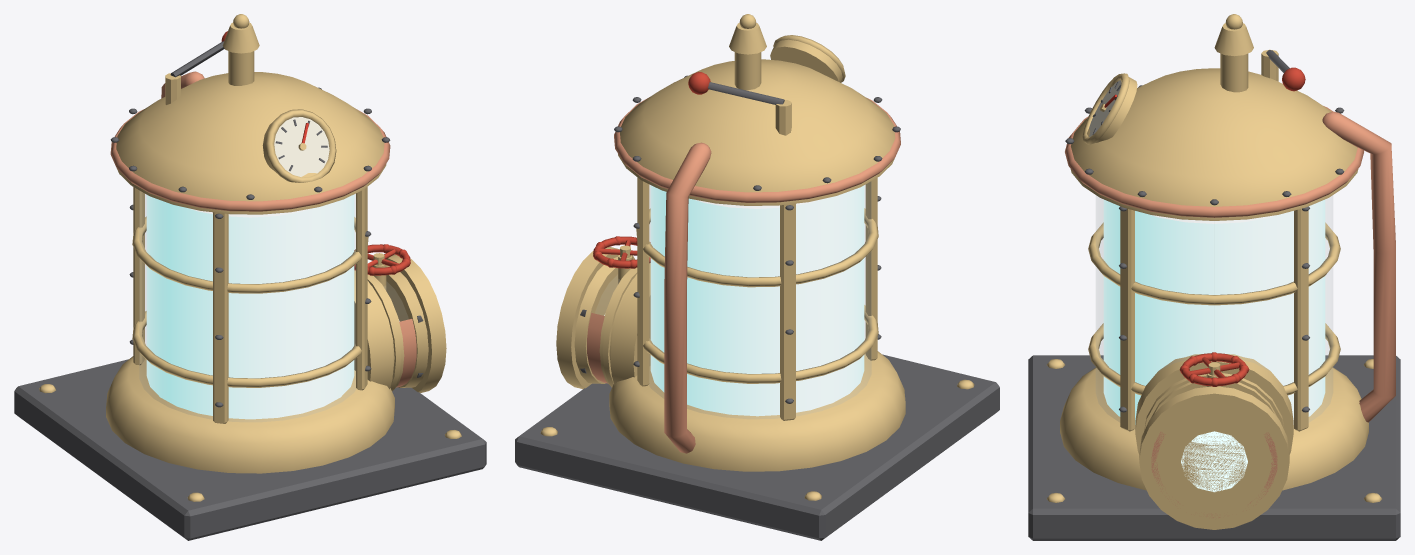
The model's file is source.glb.
The picture shows the model from 3 angles, left to right: view 1: azimuth 30°, elevation 25°; view 2: azimuth 150°, elevation 25°; view 3: azimuth 270°, elevation 25°; orthographic projection. The views are drawn at different scales.
Visible parts, largest first — view 1: source, glass, tank_glow; view 2: source, glass, tank_glow; view 3: source, glass, tank_glow, outlet_glow.
Boxes of the visible parts, x1,y1,x2,y2 form: source: [14, 14, 486, 540]; glass: [140, 191, 355, 421]; tank_glow: [146, 194, 354, 419]; source: [515, 14, 999, 540]; glass: [649, 182, 870, 418]; tank_glow: [650, 185, 864, 416]; source: [1028, 14, 1400, 540]; glass: [1096, 196, 1332, 421]; tank_glow: [1103, 199, 1325, 424]; outlet_glow: [1181, 431, 1247, 492].
Size of the model in its own units: 0.97 by 1.25 by 0.94.
